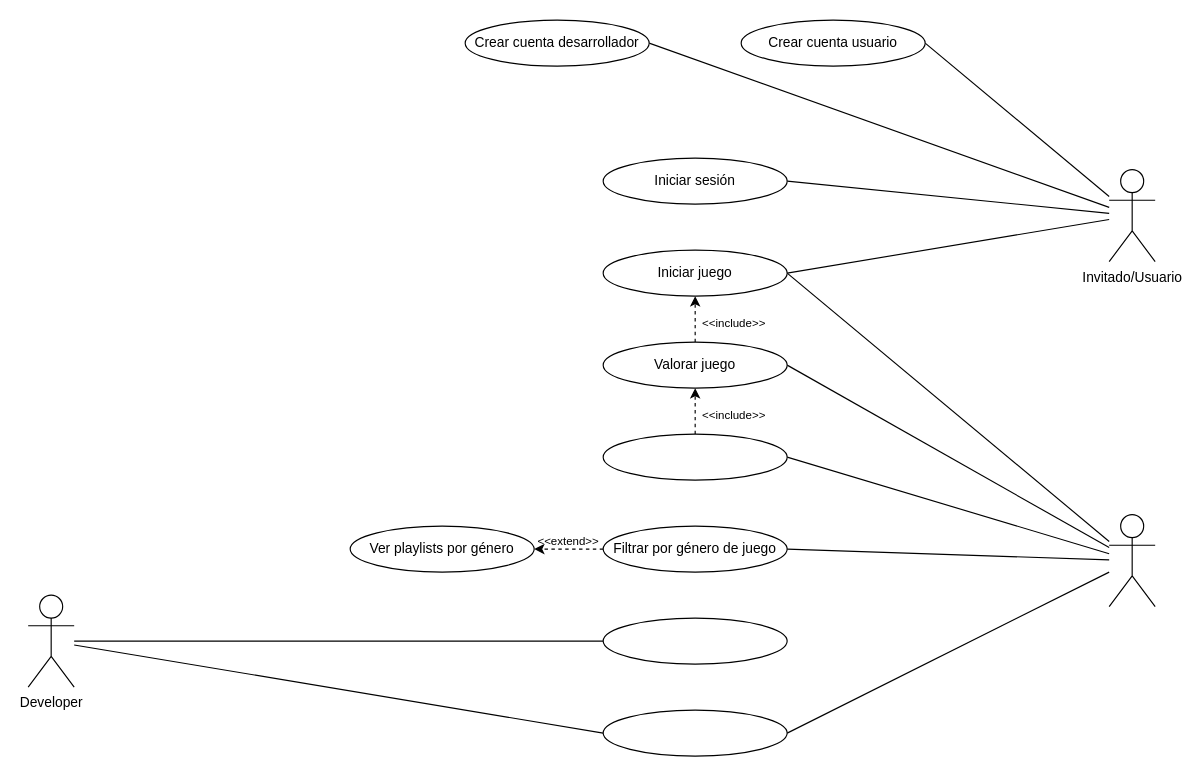
This 1202x776 diagram has some shape labels left out. The shapes that lost their labels are listed below. From the top down, each one's centre as x and y in pixels, then its label:
the point at 694,456: Añadir comentario para desarrollador
the point at 1131,560: Jugador
the point at 694,640: Dar de alta juego
the point at 694,732: Acceder a estadísticas
